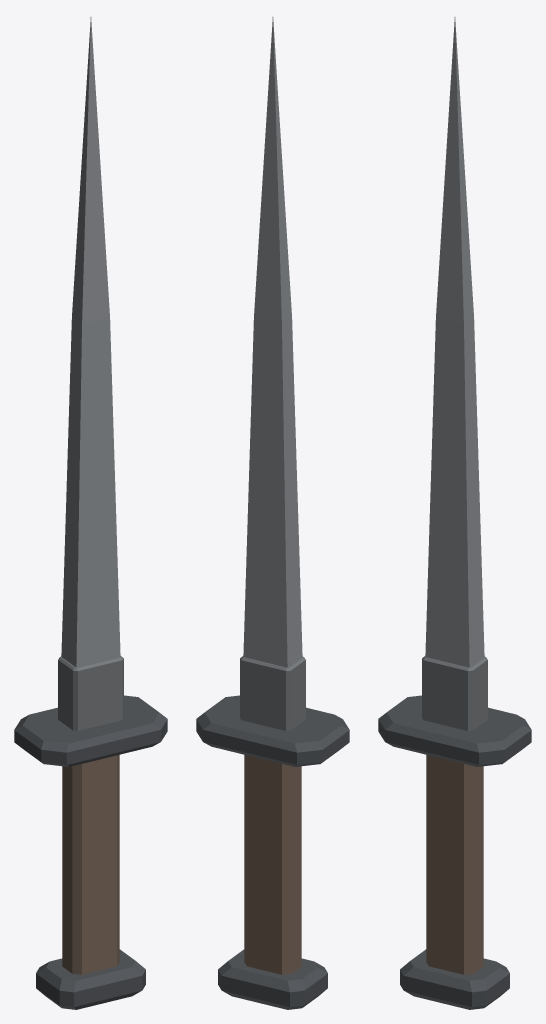
The model's file is Sword.008.fbx.
3 views of the same model, side by side, from view 1: azimuth 30°, elevation 25°; view 2: azimuth 150°, elevation 25°; view 3: azimuth 330°, elevation 25° (orthographic).
Visible parts, largest first — view 1: Sword.008; view 2: Sword.008; view 3: Sword.008.
Part boxes in pixels (x1,y1,x2,y2): Sword.008: (14,17,167,1009); Sword.008: (196,17,349,1009); Sword.008: (378,17,531,1009).
Bounding box in the file's own units: 7.32 × 54.16 × 4.59.
